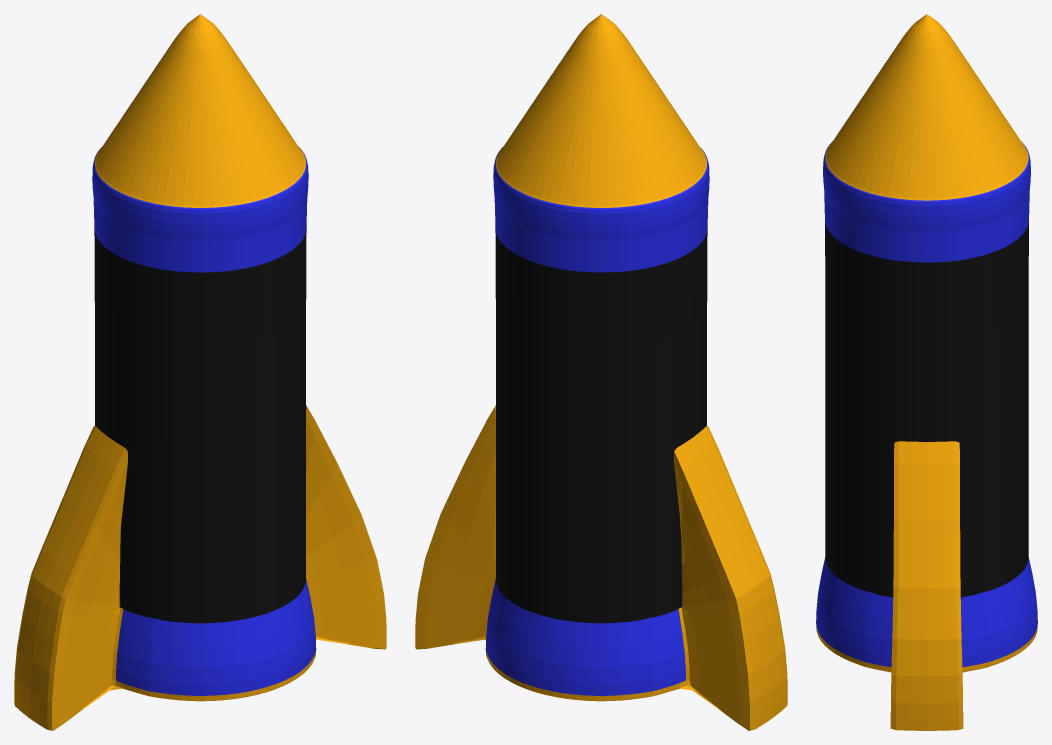
The model's file is raketa-lighter.obj.
3 views of the same model, side by side, from view 1: azimuth 30°, elevation 25°; view 2: azimuth 150°, elevation 25°; view 3: azimuth 270°, elevation 25° (orthographic). The views are drawn at different scales.
Parts seen in each view (by area): view 1: Cylinder; view 2: Cylinder; view 3: Cylinder.
Part boxes in pixels (x1,y1,x2,y2): Cylinder: (14, 14, 386, 730); Cylinder: (415, 14, 787, 730); Cylinder: (816, 14, 1037, 730).
Size of the model in its own units: 3.62 by 6.71 by 2.11.
